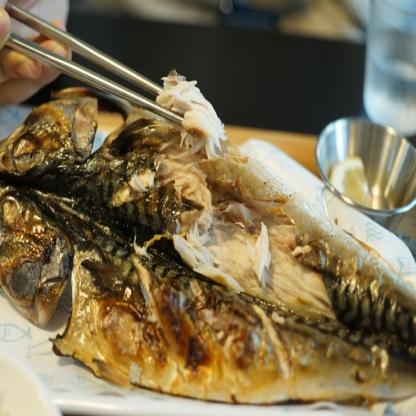Peixe: (0, 84, 416, 416)
